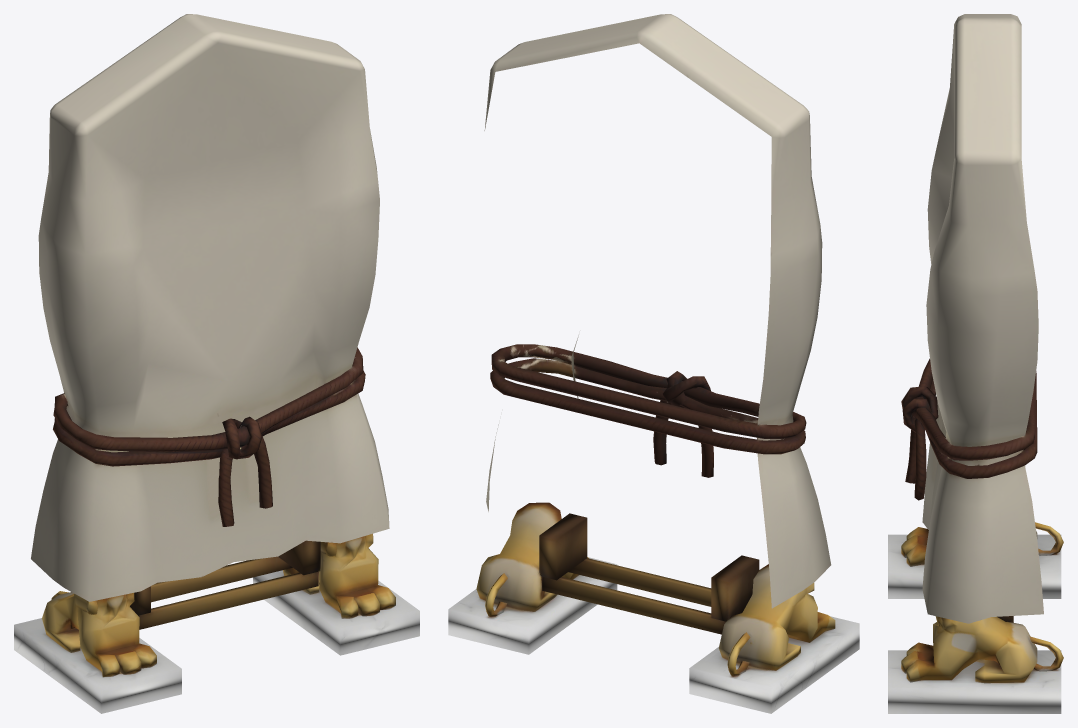
The model's file is mirror_tied.glb.
3 renders of one model, left to right at view 1: azimuth 30°, elevation 25°; view 2: azimuth 150°, elevation 25°; view 3: azimuth 270°, elevation 25°, orthographic. The views are drawn at different scales.
Visible parts, largest first — view 1: tripo_node_b97844d2-0f43-472e-b486-1de84f98a790; view 2: tripo_node_b97844d2-0f43-472e-b486-1de84f98a790; view 3: tripo_node_b97844d2-0f43-472e-b486-1de84f98a790.
Boxes of the visible parts, x1,y1,x2,y2 form: tripo_node_b97844d2-0f43-472e-b486-1de84f98a790: (14, 14, 419, 713); tripo_node_b97844d2-0f43-472e-b486-1de84f98a790: (448, 14, 859, 713); tripo_node_b97844d2-0f43-472e-b486-1de84f98a790: (888, 14, 1063, 713).
Size of the model in its own units: 0.5566 by 0.998 by 0.2598.
Materials: 1 (1 with a texture image).
